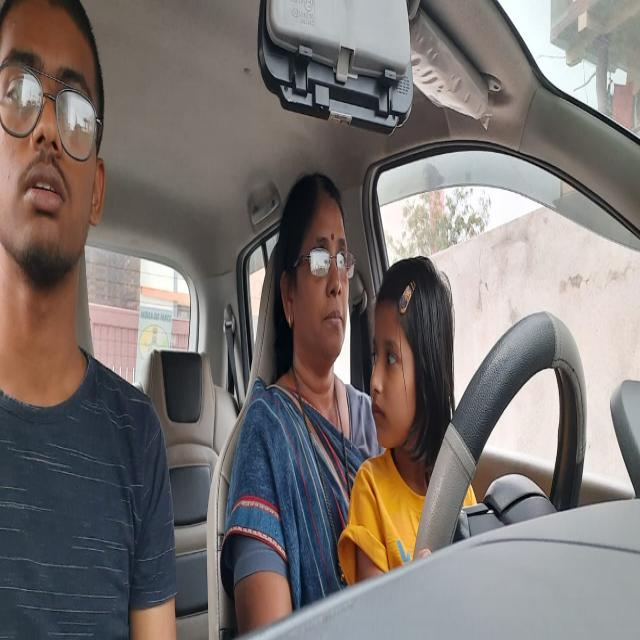child: (365, 250, 451, 478)
person: (1, 0, 110, 328), (280, 153, 359, 364)
